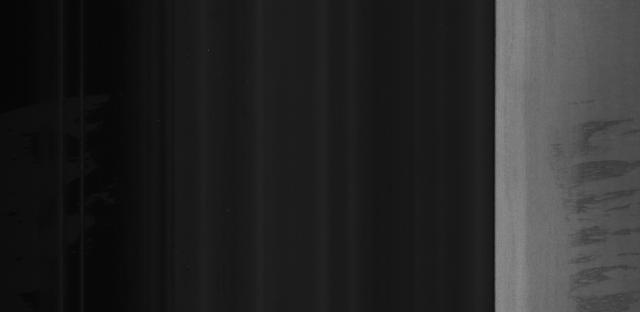water_spot: (544, 105, 640, 312)
